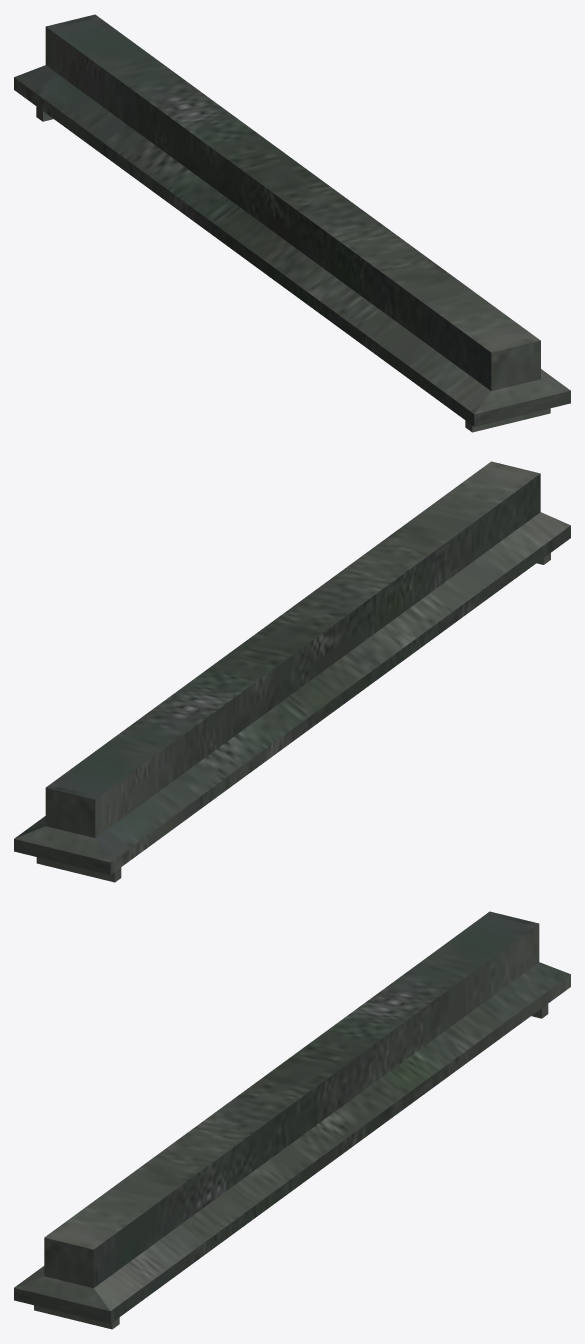
File: lights_florescent01a.glb
3 renders of one model, top to bottom at view 1: azimuth 30°, elevation 25°; view 2: azimuth 150°, elevation 25°; view 3: azimuth 330°, elevation 25°, orthographic.
Visible parts, largest first — view 1: 0_FlorescentLight01a; view 2: 0_FlorescentLight01a; view 3: 0_FlorescentLight01a.
Boxes of the visible parts, x1,y1,x2,y2 form: 0_FlorescentLight01a: (14,14,570,432); 0_FlorescentLight01a: (14,461,570,882); 0_FlorescentLight01a: (14,911,570,1329).
Bounding box in the file's own units: 0.2035 × 0.1675 × 1.68.
1 material, 1 textured.
